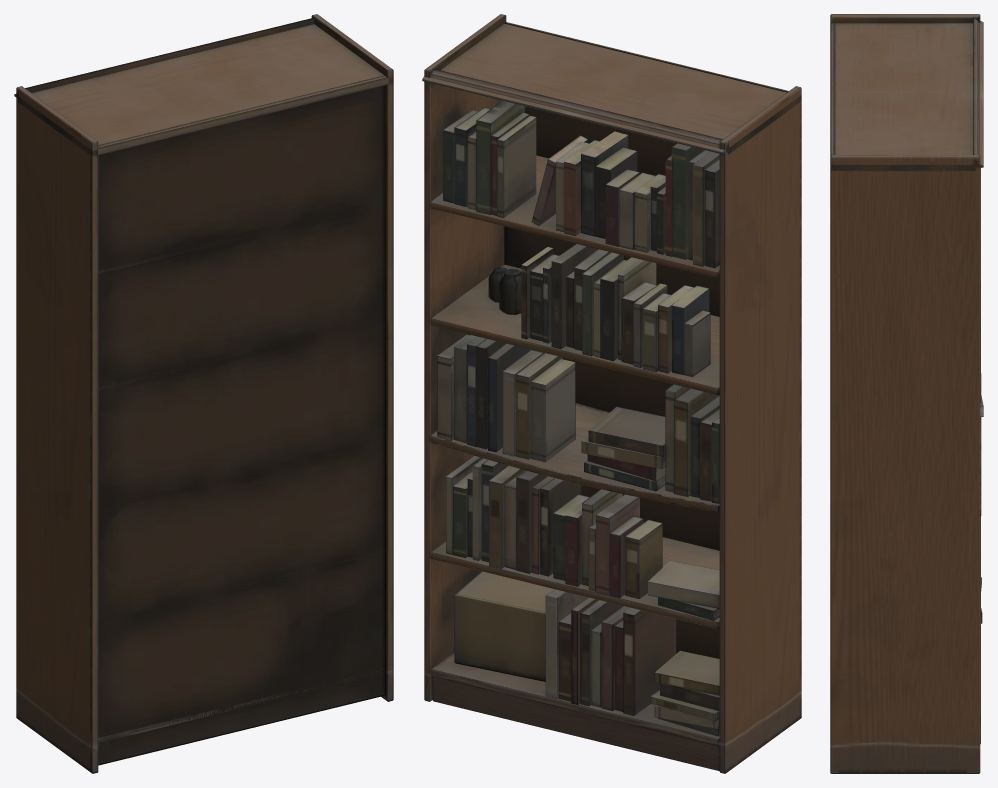
File: furniture_shelf_module.glb
3 views of the same model, side by side, from view 1: azimuth 30°, elevation 25°; view 2: azimuth 150°, elevation 25°; view 3: azimuth 270°, elevation 25° (orthographic). The views are drawn at different scales.
Parts seen in each view (by area): view 1: furniture_shelf_module; view 2: furniture_shelf_module; view 3: furniture_shelf_module.
Part boxes in pixels (x1=…): furniture_shelf_module: x1=14, y1=14, x2=393, y2=773; furniture_shelf_module: x1=422, y1=14, x2=801, y2=773; furniture_shelf_module: x1=830, y1=14, x2=983, y2=773.
Size of the model in its own units: 1 by 2 by 0.45.
1 material, 1 textured.
